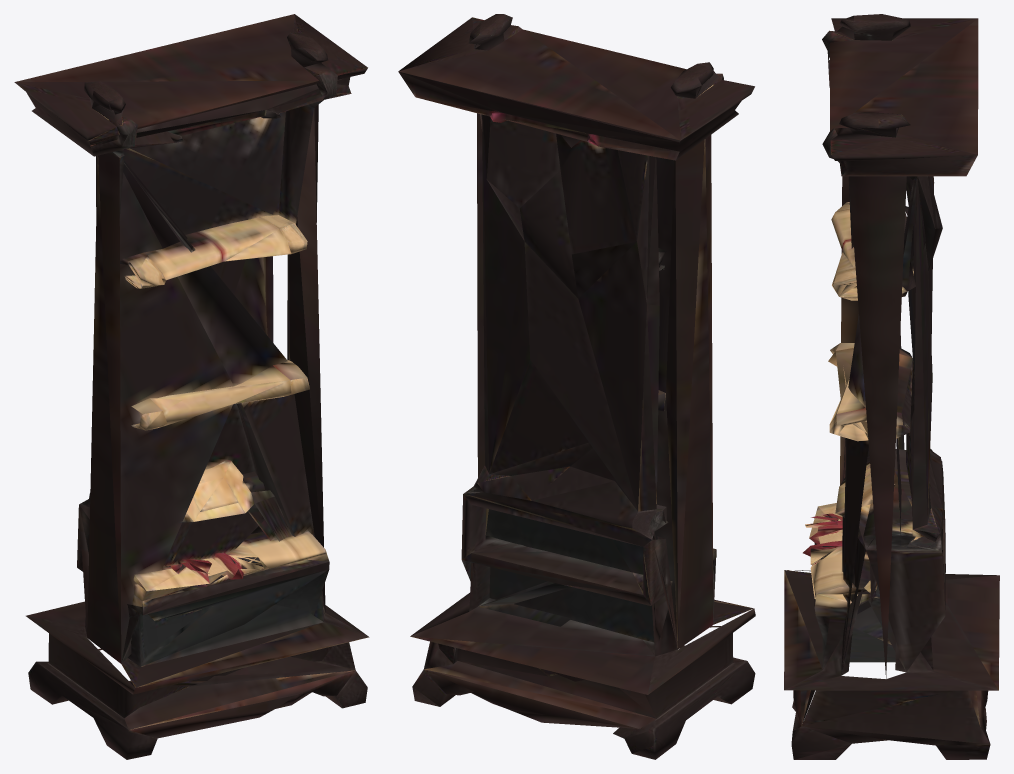
The model's file is recordShelf.glb.
The picture shows the model from 3 angles, left to right: view 1: azimuth 30°, elevation 25°; view 2: azimuth 150°, elevation 25°; view 3: azimuth 270°, elevation 25°; orthographic projection.
Parts seen in each view (by area): view 1: environment-recordShelf, environment-recordShelf-background; view 2: environment-recordShelf, environment-recordShelf-background; view 3: environment-recordShelf, environment-recordShelf-background.
Part boxes in pixels (box(x1,y1,x2,y2)): environment-recordShelf: box(14, 14, 369, 759); environment-recordShelf-background: box(78, 62, 341, 686); environment-recordShelf: box(398, 14, 755, 759); environment-recordShelf-background: box(398, 25, 721, 738); environment-recordShelf: box(784, 14, 999, 759); environment-recordShelf-background: box(804, 26, 990, 744).
Size of the model in its own units: 24 by 52 by 16.
Materials: 1 (1 with a texture image).
